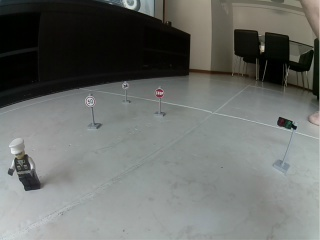Green Traffic Light: (272, 116, 297, 176)
Person: (7, 138, 42, 191)
Speed Limit 30: (122, 82, 130, 90)
Speed Limit 50: (85, 98, 95, 107)
Stop Sign: (155, 88, 164, 98)
